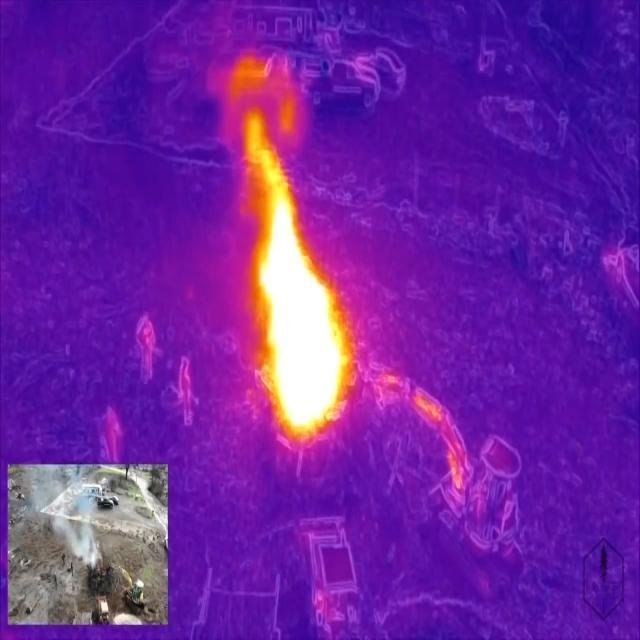fire: (245, 110, 356, 448)
